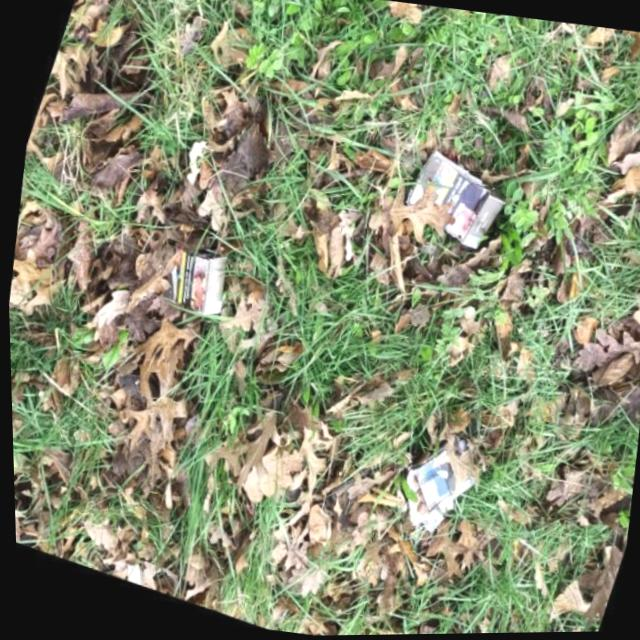Paper: (395, 145, 512, 257), (392, 427, 482, 546), (153, 237, 229, 320)
